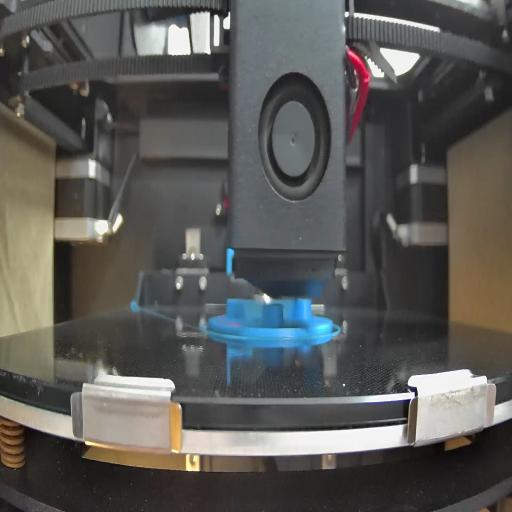stringing: (237, 298, 295, 324)
